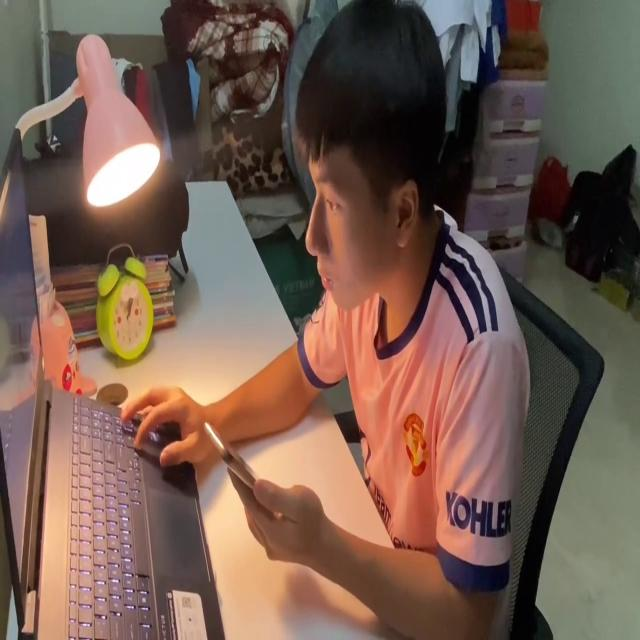laptop: (0, 121, 223, 640)
phone: (204, 404, 276, 516)
student: (116, 0, 534, 640)
